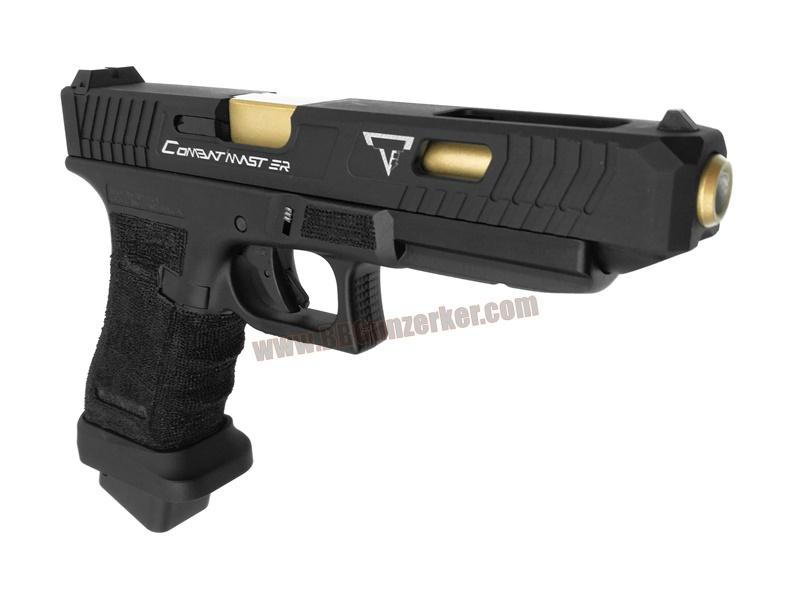gun: (46, 56, 745, 546)
